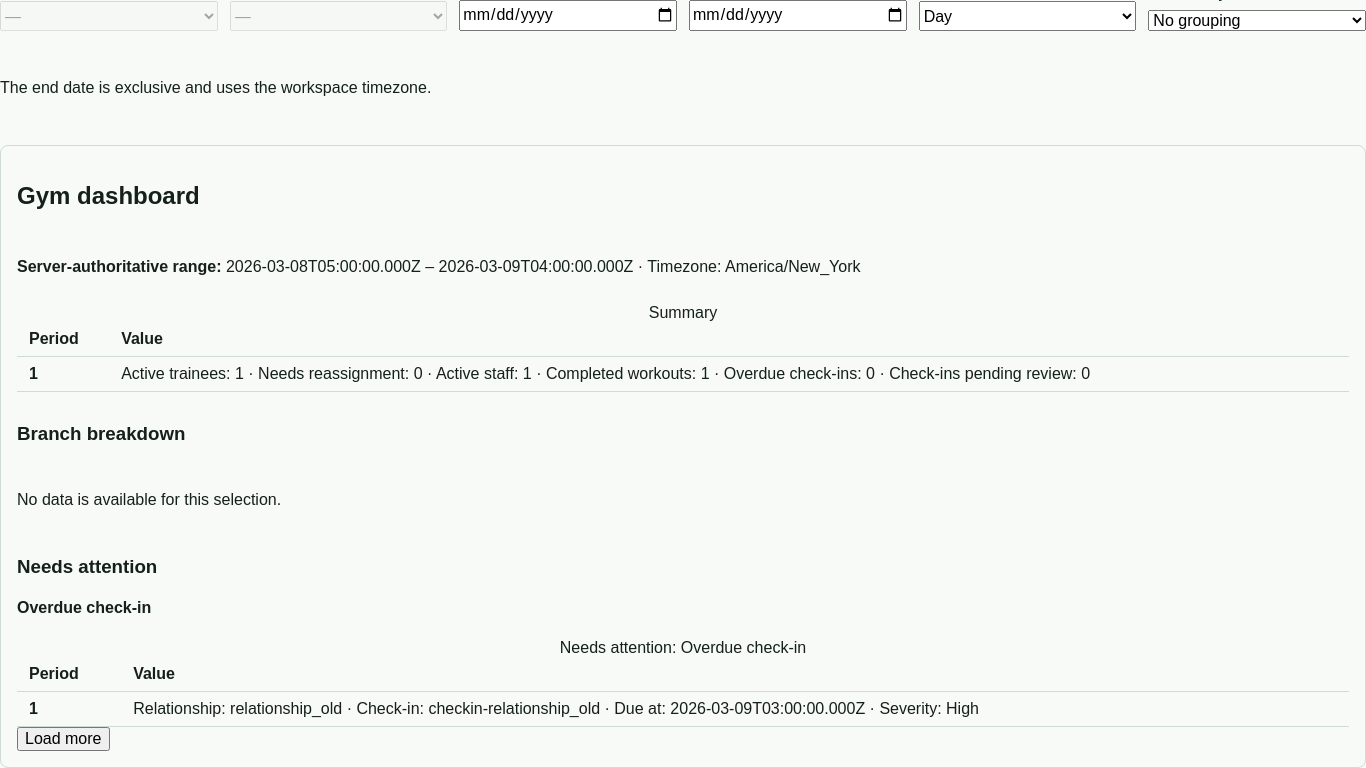
Test case: analytics experience › discards a stale attention reset success after refresh
(page scrolled)
Expected: the text "relationship_old" is shown, x1=133 y1=700 x2=979 y2=716
Click the button "Load more": (63, 738) x1=17 y1=726 x2=110 y2=750
(page scrolled)
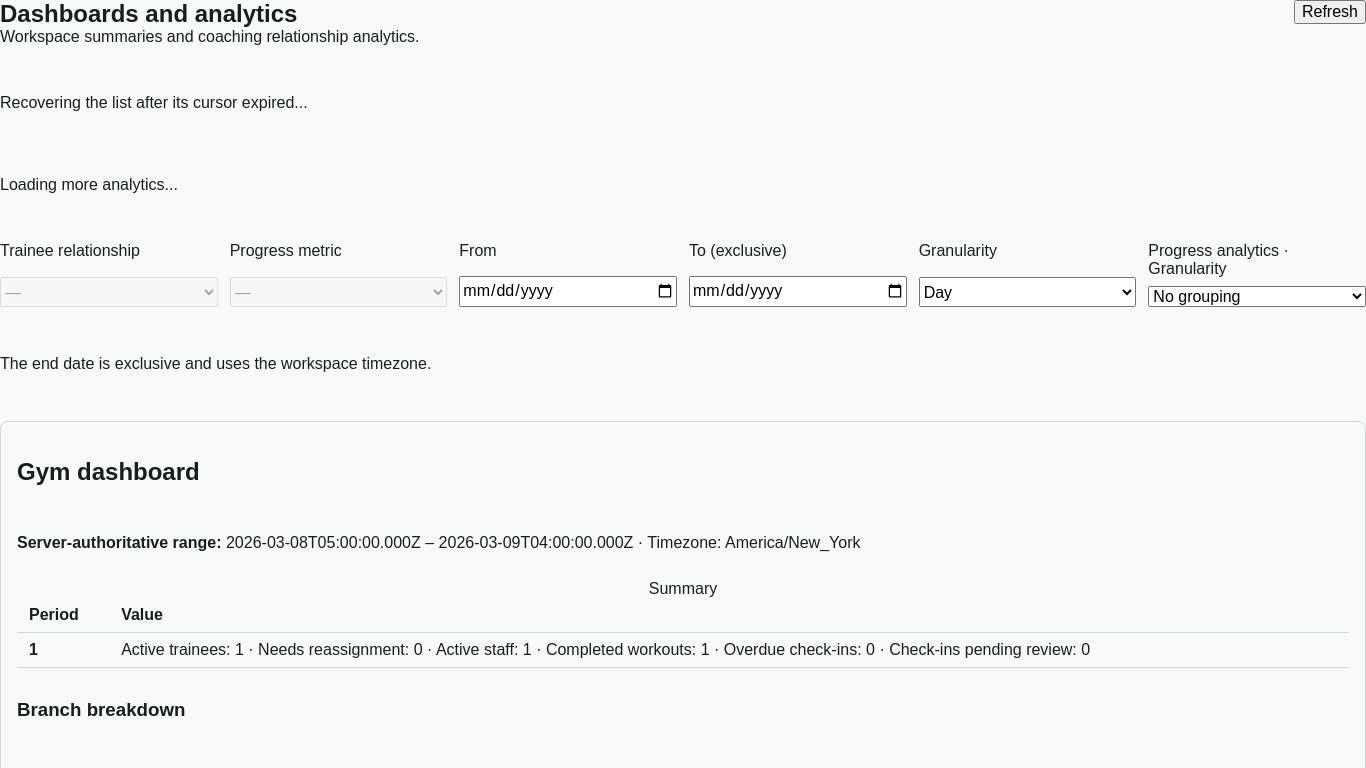
Click the button "Refresh": (1330, 12) x1=1294 y1=0 x2=1365 y2=24
(page scrolled)
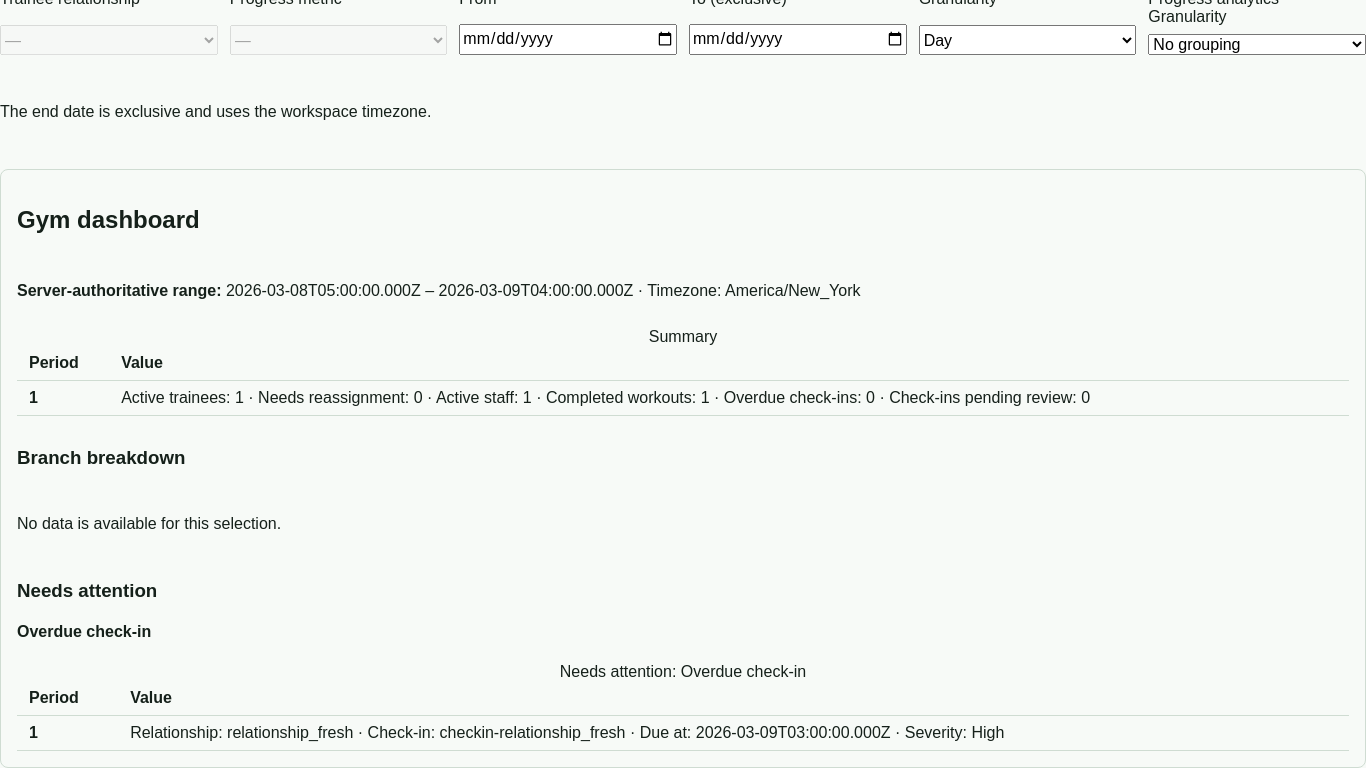
Now the text "relationship_fresh" is shown, box x1=130 y1=724 x2=1004 y2=740
